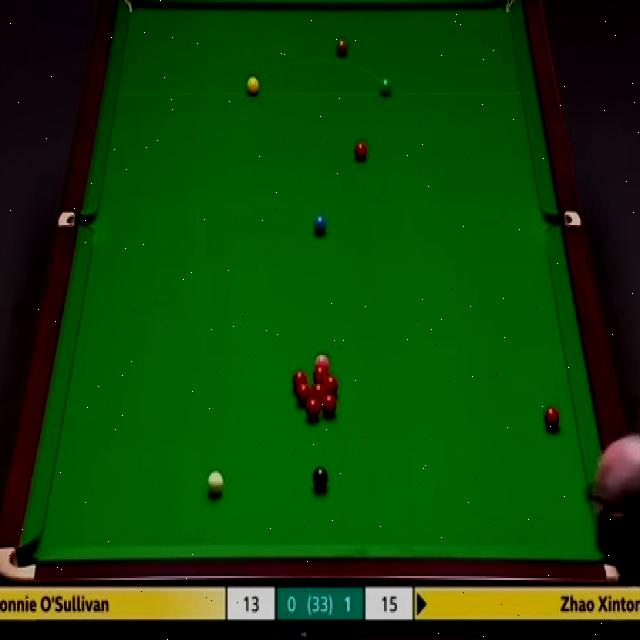black-ball: (312, 466, 328, 491)
blue-ball: (312, 212, 326, 235)
brown-ball: (336, 37, 349, 57)
green-ball: (378, 76, 392, 97)
pink-ball: (313, 351, 330, 366)
red-ball: (544, 404, 560, 431), (322, 394, 337, 417), (353, 140, 368, 162), (306, 398, 320, 420), (322, 376, 338, 395), (296, 383, 310, 404), (312, 364, 328, 382), (310, 384, 325, 402), (292, 369, 306, 388)
white-ball: (206, 470, 224, 494)
yellow-ball: (246, 74, 260, 96)
